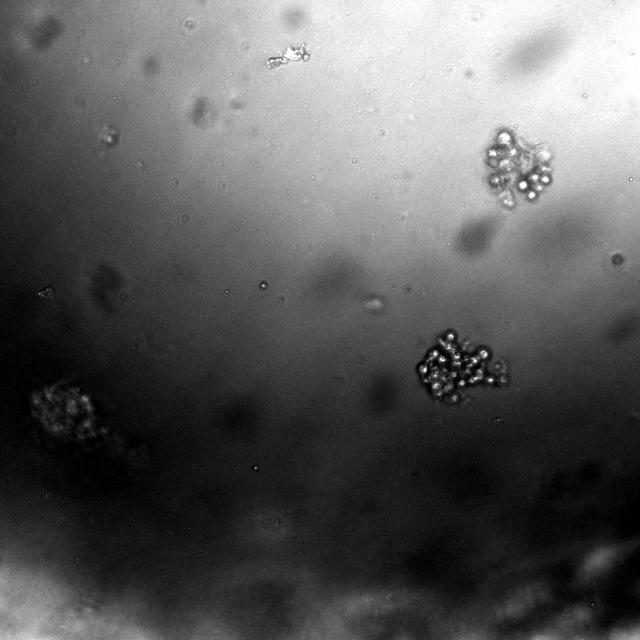organoid: (416, 329, 509, 402), (484, 126, 552, 208), (31, 383, 108, 450)
